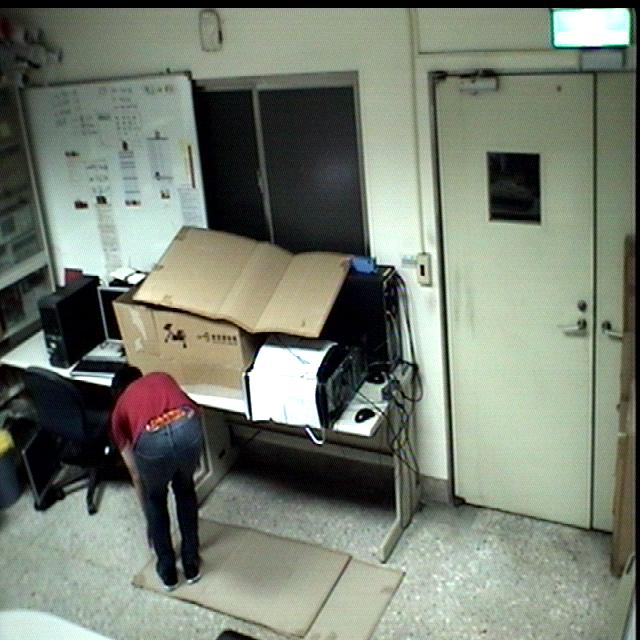bend: (100, 354, 218, 591)
